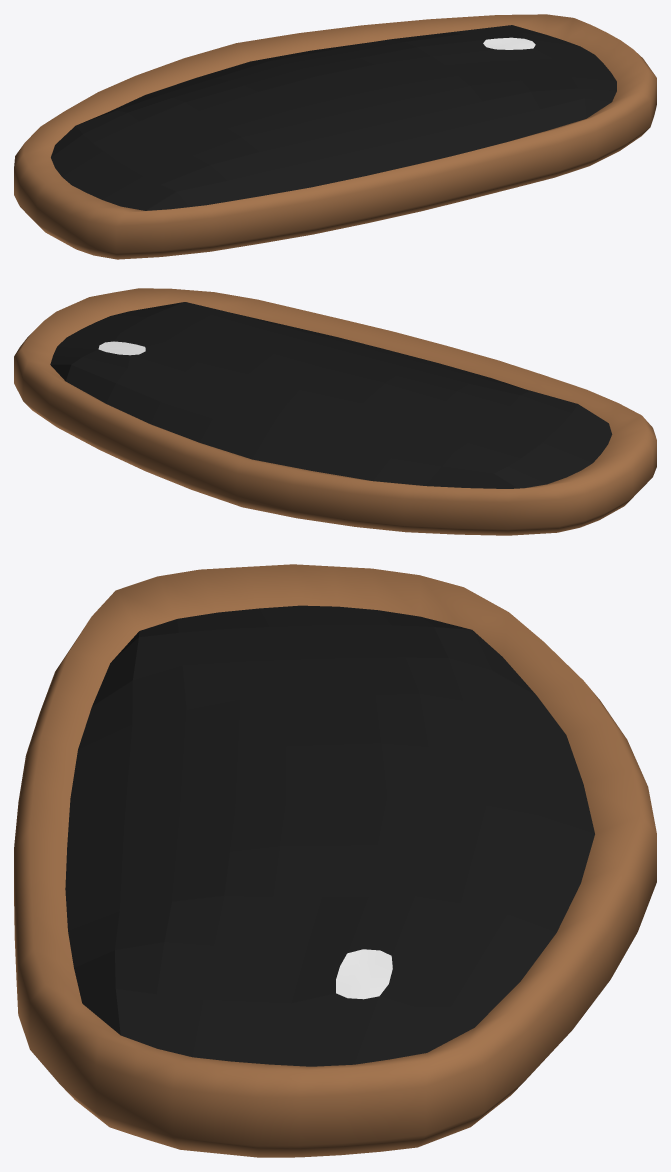
The model's file is Insecticeye'd.fbx.
The picture shows the model from 3 angles, top to bottom: view 1: azimuth 30°, elevation 25°; view 2: azimuth 150°, elevation 25°; view 3: azimuth 270°, elevation 25°; orthographic projection. The views are drawn at different scales.
Visible parts, largest first — view 1: Insecticeye'd - zutomayo (Skorados); view 2: Insecticeye'd - zutomayo (Skorados); view 3: Insecticeye'd - zutomayo (Skorados).
Boxes of the visible parts, left/top/right/bottom form: Insecticeye'd - zutomayo (Skorados): left=14, top=14, right=656, bottom=259; Insecticeye'd - zutomayo (Skorados): left=14, top=288, right=656, bottom=535; Insecticeye'd - zutomayo (Skorados): left=14, top=564, right=656, bottom=1157.
Bounding box in the file's own units: 39.95 × 4.08 × 20.76.
